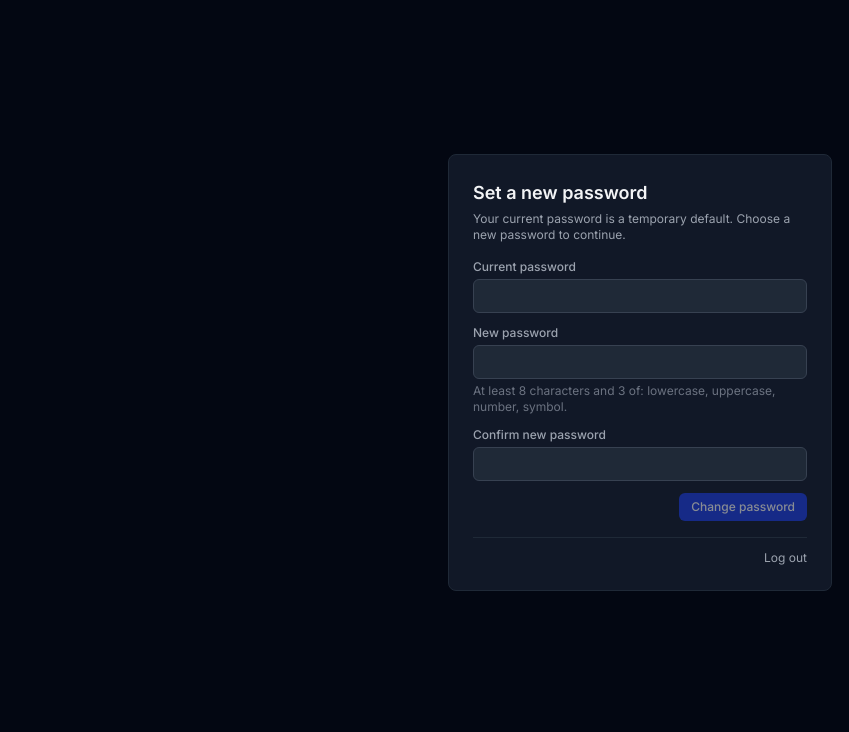
Test: Forced password change (prompts-047) › renders the shell once the flag clears after a successful change
expect the heading "Set a new password" is shown: met, box [473,182,648,202]
Type "OldDefault1!" into the password field labelled "Current password" at coordinates (640, 296), box [473,278,807,312]
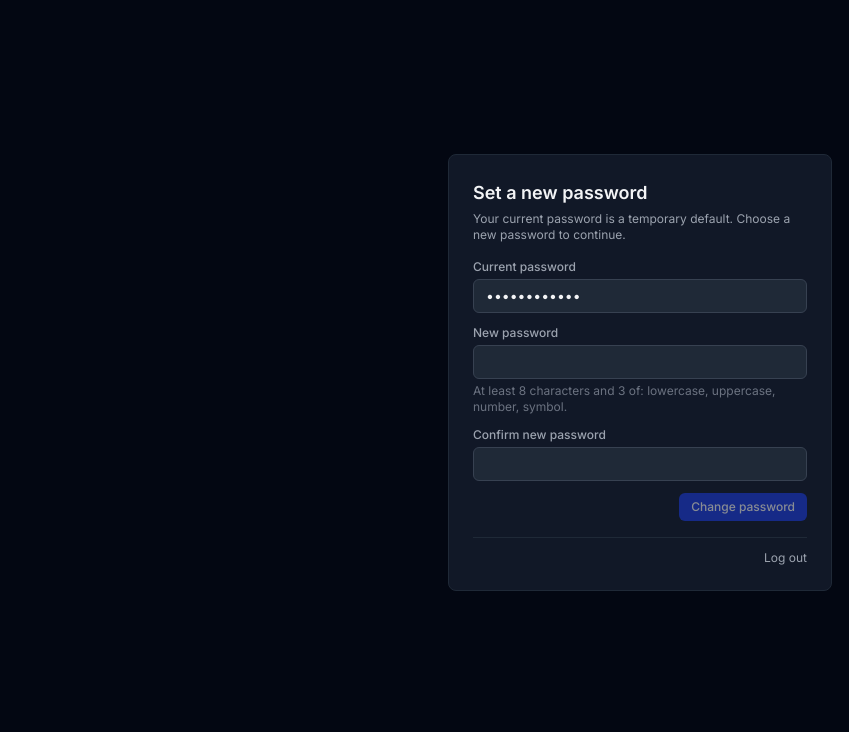
Type "BrandNew2!" into the password field labelled "New password" at coordinates (640, 362), box [473,344,807,378]
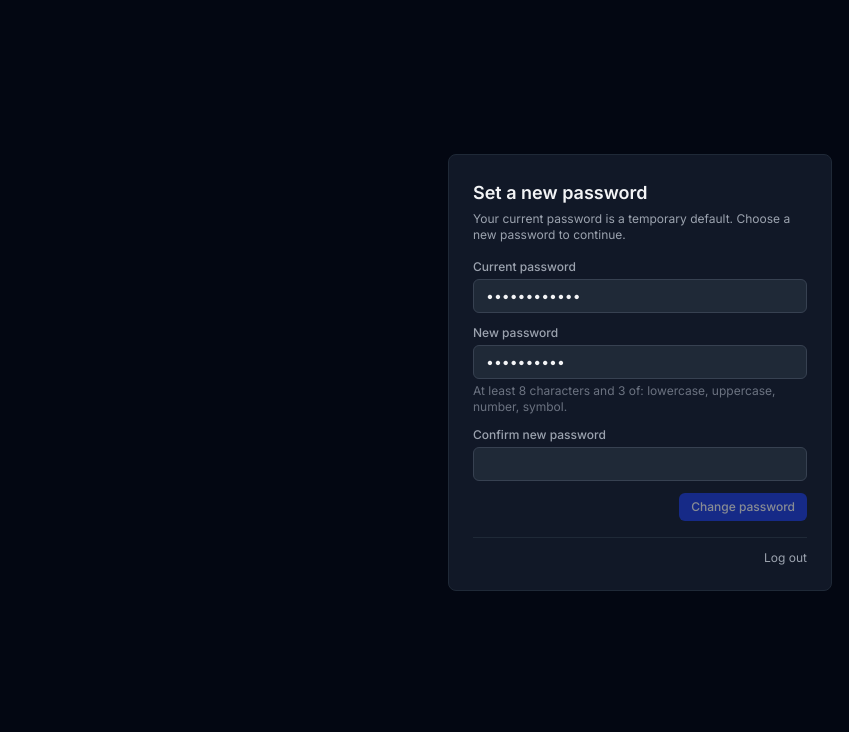
Type "BrandNew2!" into the password field labelled "Confirm new password" at coordinates (640, 464), box [473,446,807,480]
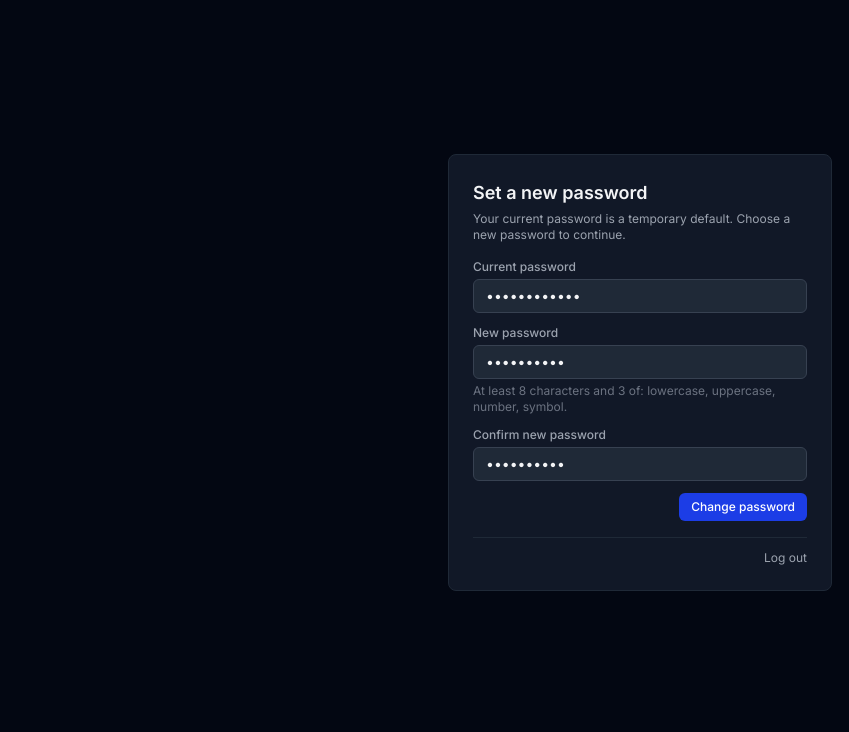
Click the button "Change password" at coordinates (743, 506), box [679,492,807,520]
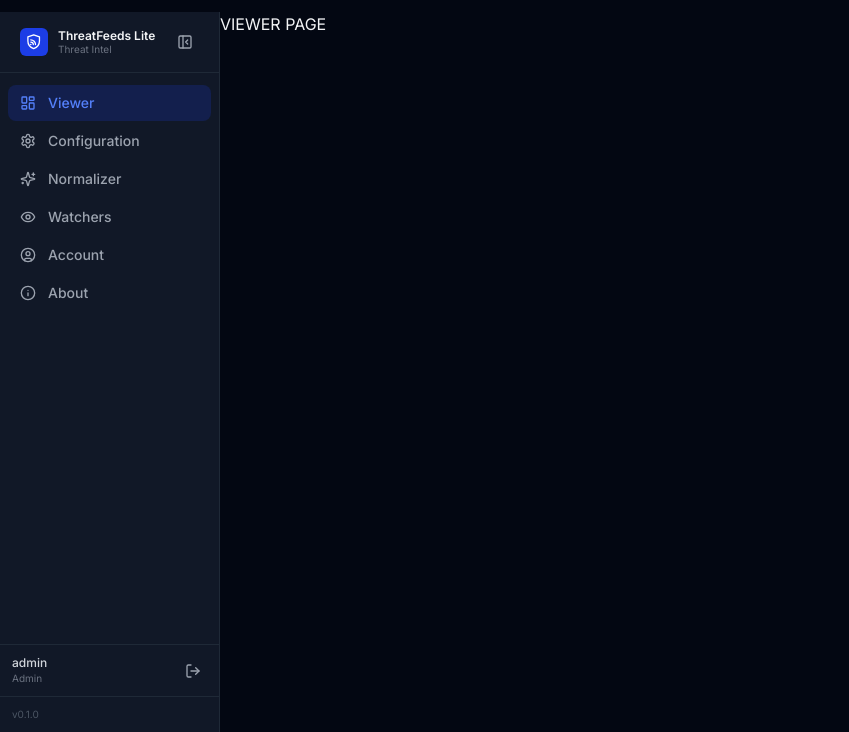
expect the text "VIEWER PAGE" is shown: met, box [220,14,326,34]
